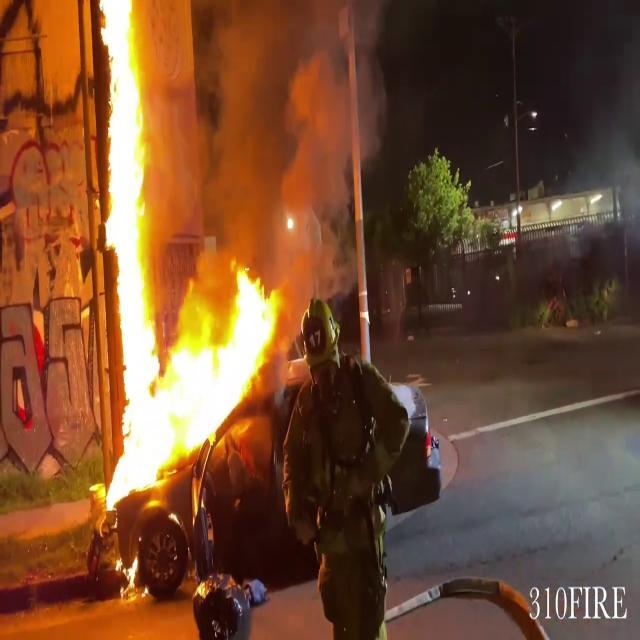Fire: (100, 253, 284, 495), (99, 2, 161, 499)
Smoke: (166, 0, 390, 271)
